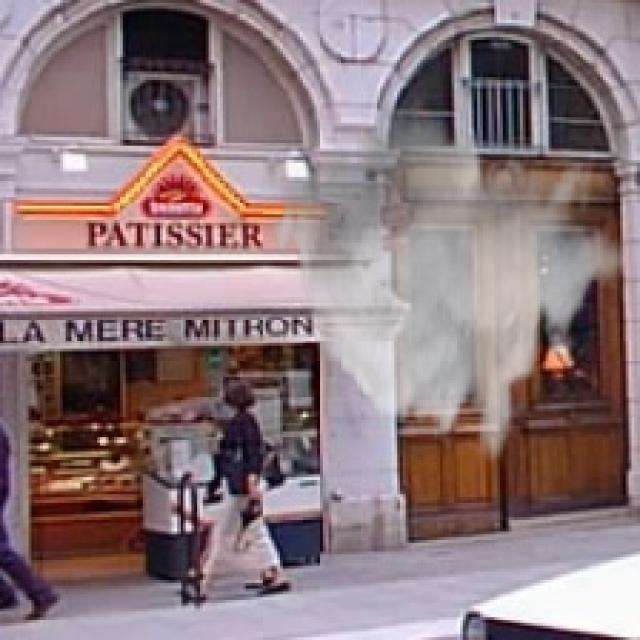smoke: (268, 88, 628, 463)
